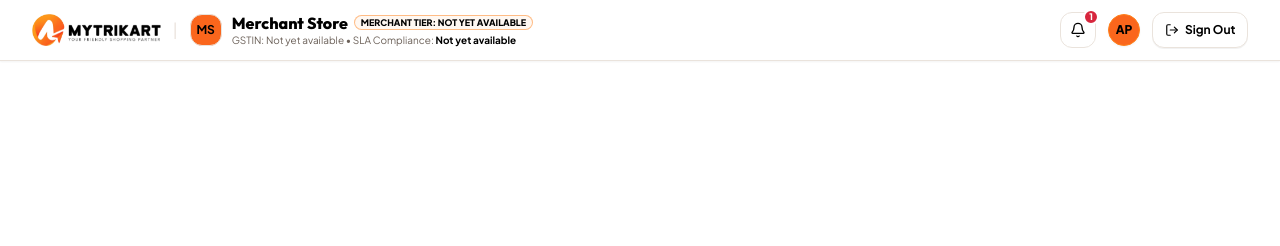
it: SellerDashboardTopBar Alerts Wiring Suite › 2. renders low stock warning with badge count 1 and formatted variant detail
Expected: the text "1" is shown, 1082,9 -> 1098,25
Expected: the text with class "animate-badge-pop" reads "1", 1089,11 -> 1092,22
// Open dropdown
Click the button named "open notifications": (1078, 30) 1060,12 -> 1096,48
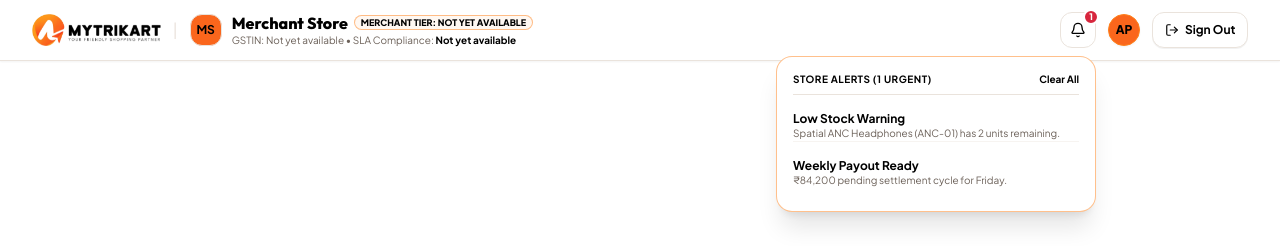
Result: the text "Store Alerts (1 Urgent)" is shown at 792,73 -> 931,86
Result: the heading "Low Stock Warning" is shown at 792,111 -> 905,126
Result: the text "Spatial ANC Headphones (ANC-01) has 2 units remaining." is shown at 792,127 -> 1078,141
